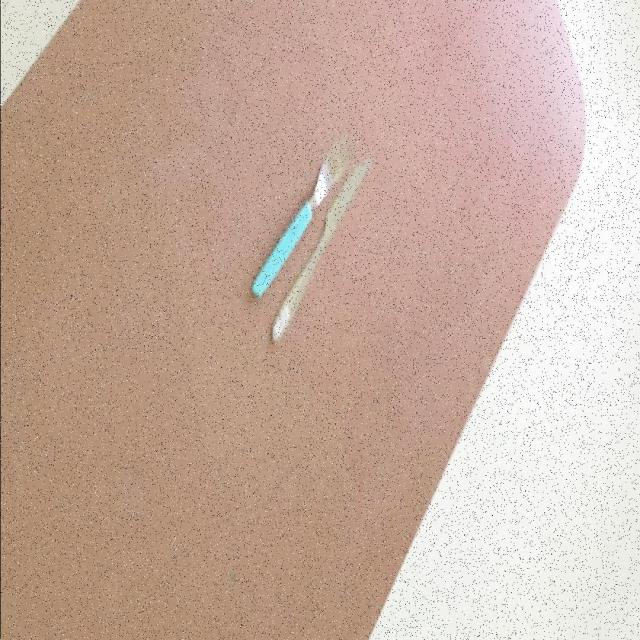Fork: (250, 132, 356, 298)
Knife: (271, 154, 373, 343), (250, 132, 356, 298)
